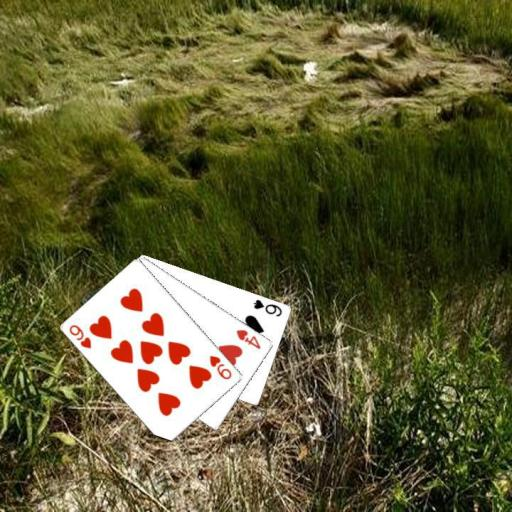4H: (234, 327, 263, 351)
6S: (250, 296, 284, 318)
9H: (206, 352, 233, 381), (66, 321, 93, 350)
